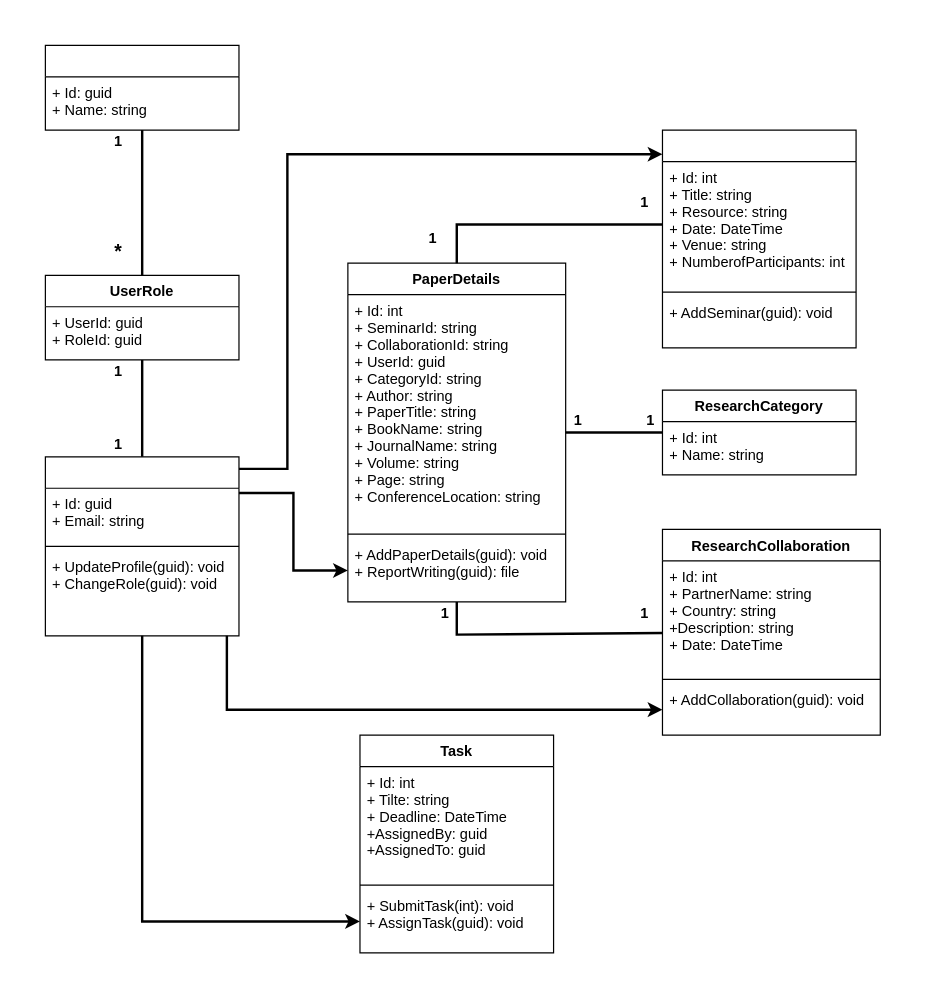
Image size: 937x997. Some labels were removed from this diagram. The shapes that lost their labels are listed below. From the top down, each one's box as (x1, y1, x2, y2) in pixels, then its label:
(44, 44, 239, 130): Role
(661, 129, 856, 348): ResearchSeminar
(44, 456, 239, 636): User
